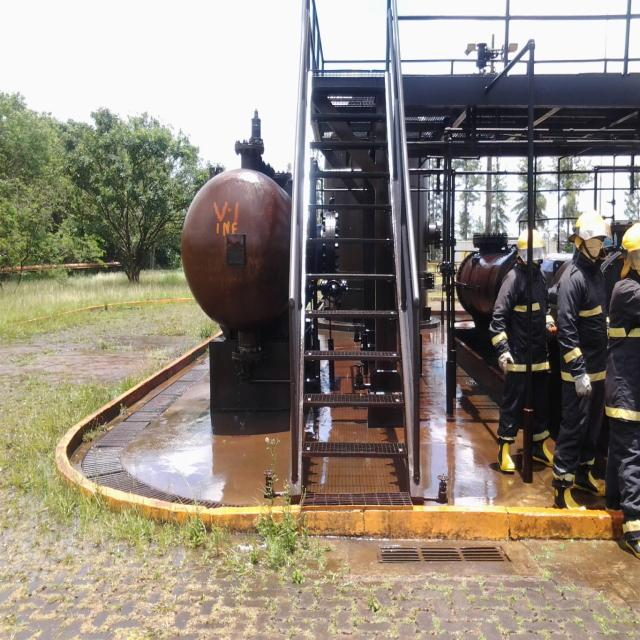no_fire: (28, 47, 640, 544)
